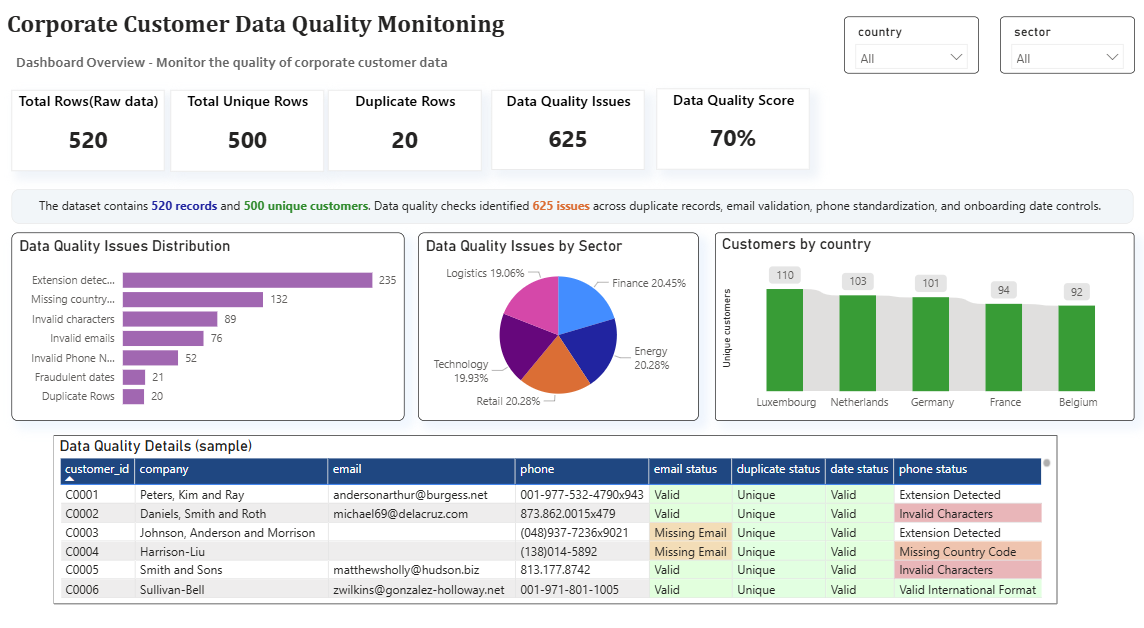

The page's visual inventory and layout, read from the dashboard file:
{"tool":"powerbi","page":{"name":"Overview","canvas":[1280,720],"ordinal":0},"visuals":[{"type":"textbox","box":[11,11,648.9,45.7],"z":0},{"type":"textbox","box":[22.1,56.7,648.9,36.2],"z":1000},{"type":"card","title":"Total Rows(Raw data)","fields":{"Values":["public overview.Total Rows"]},"box":[22.2,106.7,170,90],"z":2000},{"type":"card","title":"Total Unique Rows","fields":{"Values":["public overview.Unique Customers"]},"box":[198.3,106.8,170.5,90.3],"z":3000},{"type":"card","title":"Duplicate Rows","fields":{"Values":["public overview.Duplicate Customers"]},"box":[373.9,106.8,170.5,89.8],"z":4000},{"type":"card","title":"Data Quality Issues","fields":{"Values":["public overview.Total Issues"]},"box":[555,106.9,170,88.8],"z":5000},{"type":"textbox","box":[21.7,216.7,1246.7,38.3],"z":6000},{"type":"clusteredBarChart","title":"Data Quality Issues Distribution","fields":{"Category":["Issue Types.IssueTypes"],"Y":["Issue Types.Issue Count"]},"box":[21.5,264.6,436.9,209.2],"z":7000},{"type":"pieChart","title":"Data Quality Issues by Sector","fields":{"Category":["public overview.sector"],"Y":["Sum(public overview.TotalIssuesPerRow)"]},"box":[473.8,264.6,312.3,209.2],"z":8000},{"type":"tableEx","title":"Data Quality Details  (sample)","fields":{"Values":["public overview.customer_id","public overview.company_name","public overview.email","public overview.phone","public overview.email_check","public overview.duplicatecheck","public overview.onboardingdatecheck","public overview.phone_standardizationcheck"]},"box":[67.7,489.2,1115.4,187.7],"z":9000},{"type":"columnChart","title":"Customers by country","fields":{"Category":["public overview.country_standardized"],"Y":["public overview.Customers"]},"box":[803.1,264.6,466.2,209.2],"z":10000},{"type":"card","title":"Data Quality Score","fields":{"Values":["public overview.Data Quality Score"]},"box":[738.7,105.5,170.1,89.8],"z":11000},{"type":"slicer","title":"Country","fields":{"Values":["public overview.country_standardized"]},"box":[946.7,25,150,63.3],"z":12000},{"type":"slicer","title":"Country","fields":{"Values":["public overview.sector"]},"box":[1120,25,150,63.3],"z":13000}]}

Visuals, with their boxes in screenshot pixels (x1, y1, x2, y2), scaled from the page's 1280x720 canvas onto the 1144x628 screenshot:
textbox: {"left": 10, "top": 10, "right": 590, "bottom": 49}
textbox: {"left": 20, "top": 49, "right": 600, "bottom": 81}
"Total Rows(Raw data)" card: {"left": 20, "top": 93, "right": 172, "bottom": 172}
"Total Unique Rows" card: {"left": 177, "top": 93, "right": 330, "bottom": 172}
"Duplicate Rows" card: {"left": 334, "top": 93, "right": 487, "bottom": 171}
"Data Quality Issues" card: {"left": 496, "top": 93, "right": 648, "bottom": 171}
textbox: {"left": 19, "top": 189, "right": 1134, "bottom": 222}
"Data Quality Issues Distribution" clusteredBarChart: {"left": 19, "top": 231, "right": 410, "bottom": 413}
"Data Quality Issues by Sector" pieChart: {"left": 423, "top": 231, "right": 703, "bottom": 413}
"Data Quality Details  (sample)" tableEx: {"left": 61, "top": 427, "right": 1057, "bottom": 590}
"Customers by country" columnChart: {"left": 718, "top": 231, "right": 1134, "bottom": 413}
"Data Quality Score" card: {"left": 660, "top": 92, "right": 812, "bottom": 170}
"Country" slicer: {"left": 846, "top": 22, "right": 980, "bottom": 77}
"Country" slicer: {"left": 1001, "top": 22, "right": 1135, "bottom": 77}
